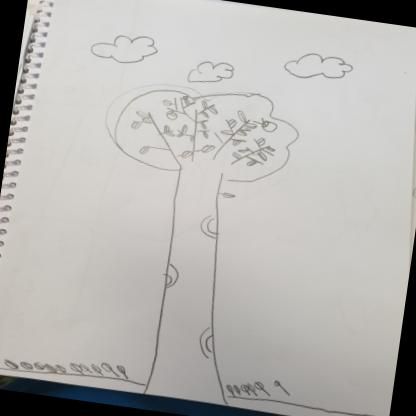branch_line: (140, 118, 273, 194)
crown_cloud: (110, 75, 302, 187)
knot: (192, 324, 222, 358), (194, 212, 222, 240), (158, 262, 182, 289)
root_none: (129, 371, 235, 406)
trunk_straight: (150, 204, 238, 358)
